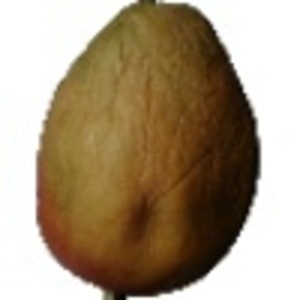mamão: (30, 3, 264, 293)
